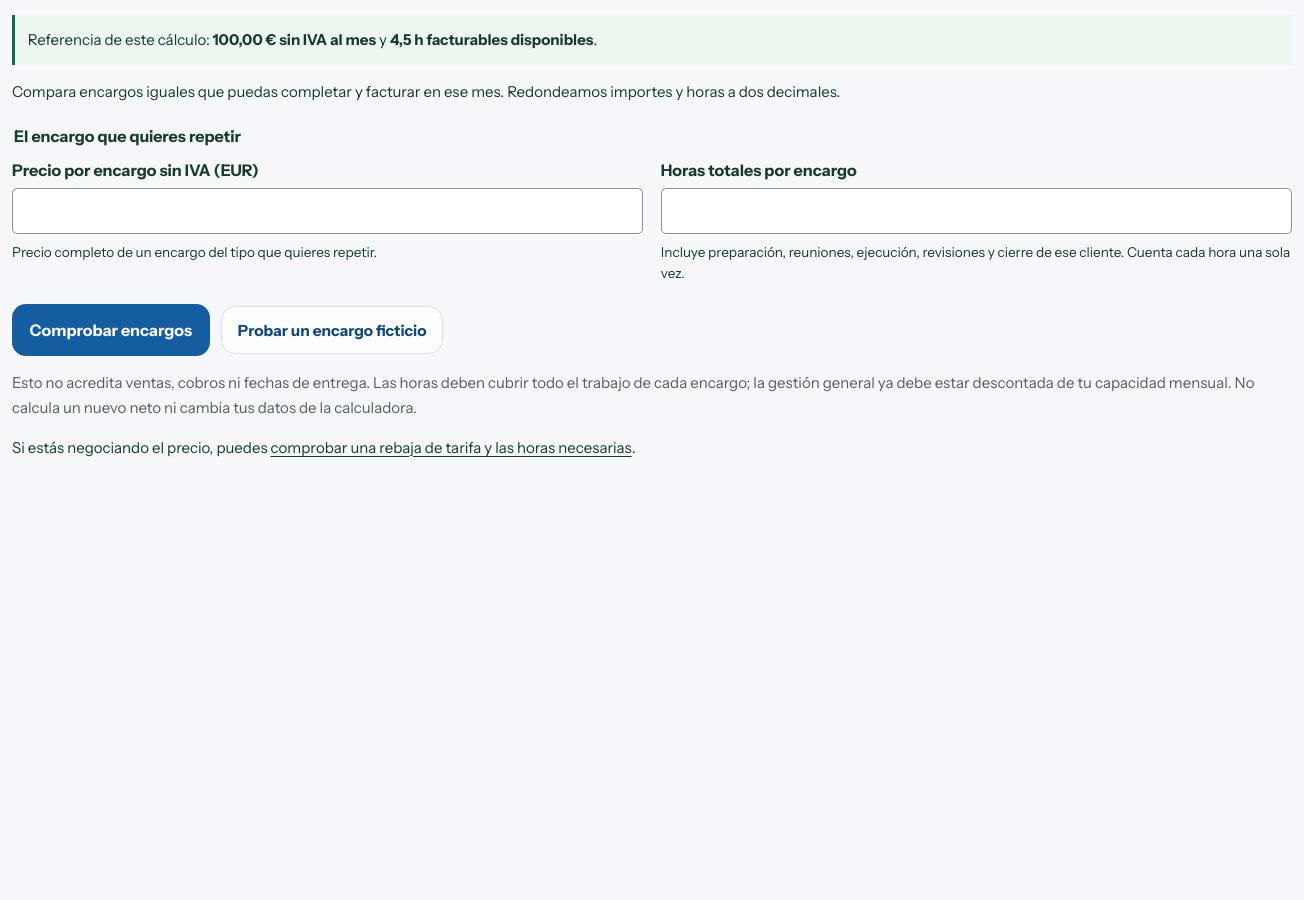
it: monthly project capacity planner › accepts Spanish decimals and Enter, with no named controls added to the main GET
Type "50" into the field labelled "Precio por encargo sin IVA (EUR)" at (328, 212), box [12,188,643,234]
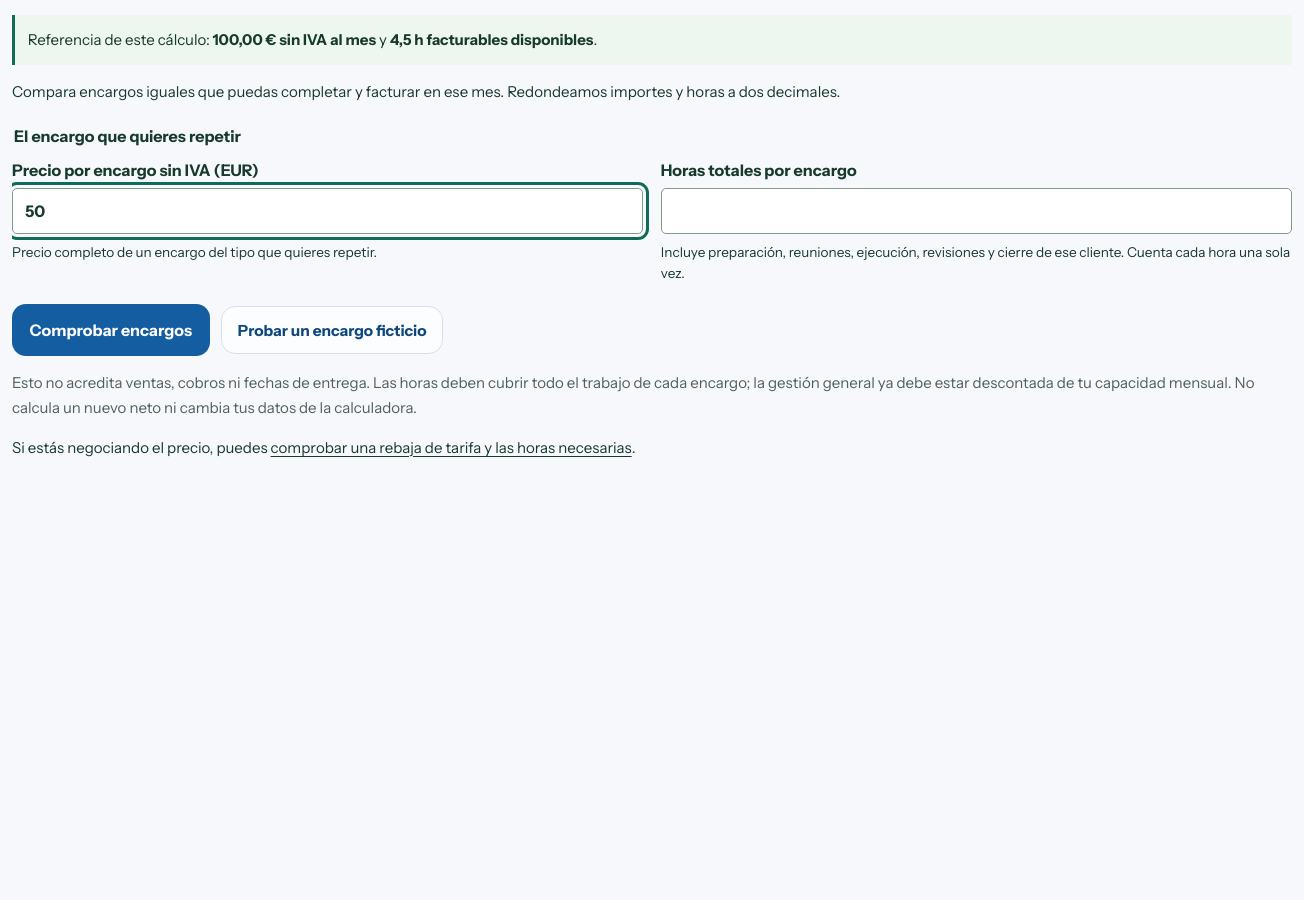
Type "1,5" into the field labelled "Horas totales por encargo" at (976, 212), box [661,188,1292,234]
Then press Enter
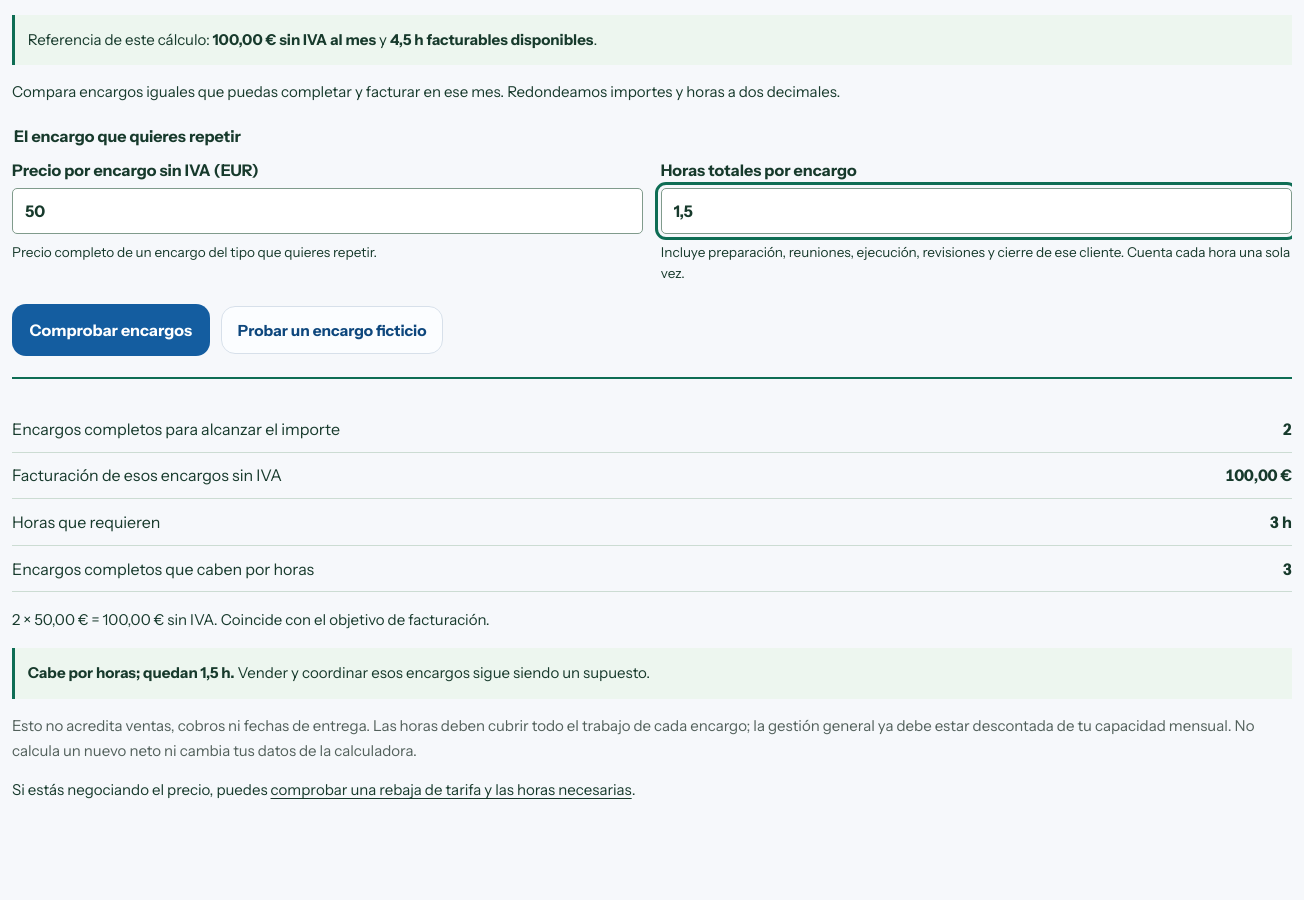
expect the message shows "Coincide con el objetivo": met, box [221,610,490,629]
expect the message shows "quedan 1,5 h": met, box [28,663,234,682]
